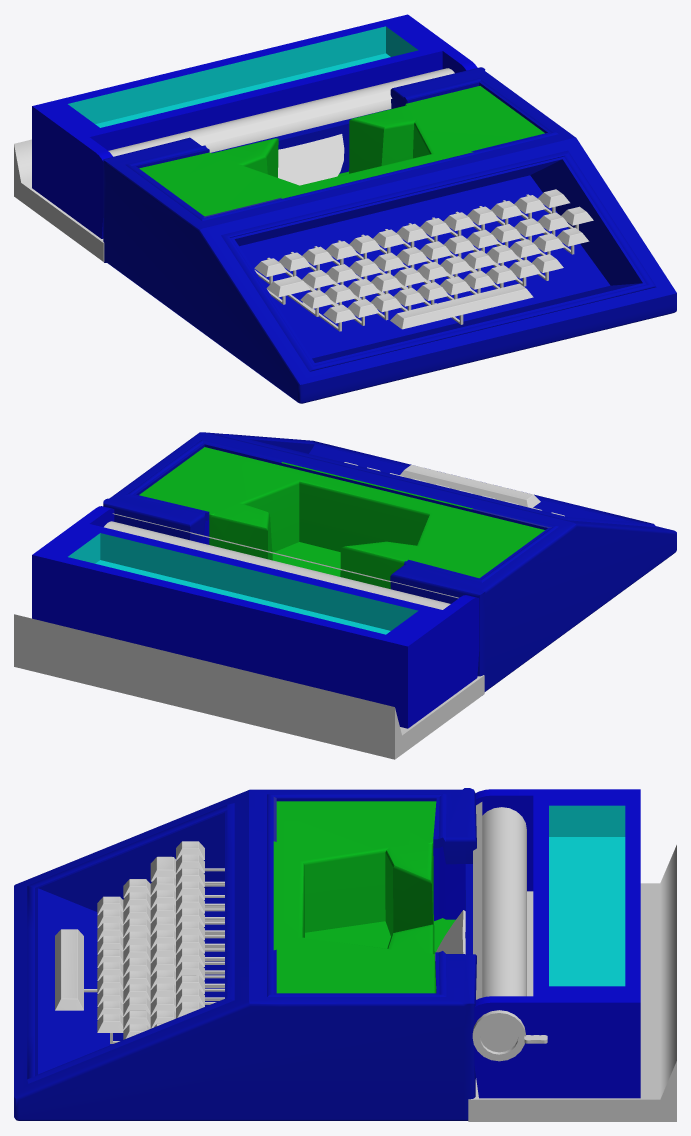
The model's file is Typewriter (1).fbx.
The picture shows the model from 3 angles, top to bottom: view 1: azimuth 30°, elevation 25°; view 2: azimuth 150°, elevation 25°; view 3: azimuth 270°, elevation 25°; orthographic projection. The views are drawn at different scales.
Parts seen in each view (by area): view 1: pCube7, pCube12, pCylinder2, pCube8, pDisc1, Keycap1, pCube13, Keycap2; view 2: pCube7, pCube12, pCube8, pCylinder2, Keycap1, pCube13; view 3: pCube7, pCube12, pCube8, pCylinder2, Keycap1, pCylinder1, pCube13, pDisc1, Keycap2.
Boxes of the visible parts, bbox=[...] form: pCube7: bbox=[103, 67, 676, 403]; pCube12: bbox=[32, 14, 477, 238]; pCylinder2: bbox=[108, 68, 454, 156]; pCube8: bbox=[14, 139, 104, 261]; pDisc1: bbox=[278, 134, 344, 185]; Keycap1: bbox=[390, 283, 533, 329]; pCube13: bbox=[192, 90, 392, 145]; Keycap2: bbox=[266, 276, 310, 297]; pCube7: bbox=[103, 432, 676, 691]; pCube12: bbox=[32, 506, 479, 728]; pCube8: bbox=[14, 614, 484, 759]; pCylinder2: bbox=[104, 521, 450, 609]; Keycap1: bbox=[400, 465, 540, 507]; pCube13: bbox=[112, 513, 458, 598]; pCube7: bbox=[14, 788, 476, 1120]; pCube12: bbox=[474, 789, 640, 1098]; pCube8: bbox=[468, 845, 676, 1121]; pCylinder2: bbox=[482, 807, 526, 997]; Keycap1: bbox=[55, 929, 83, 1010]; pCylinder1: bbox=[472, 1010, 525, 1061]; pCube13: bbox=[473, 802, 482, 999]; pDisc1: bbox=[435, 910, 465, 960]; Keycap2: bbox=[150, 856, 176, 881].
Bounding box in the file's own units: 1.37 × 0.3487 × 1.74.
